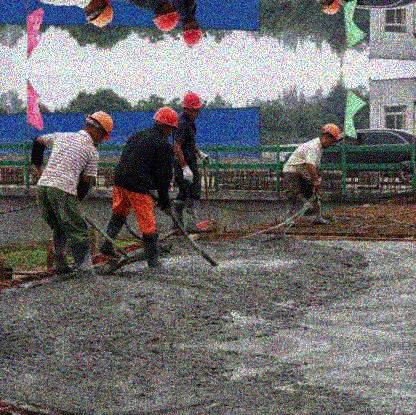helmet: (81, 109, 114, 145), (152, 106, 179, 138), (153, 1, 180, 33), (183, 91, 204, 122), (320, 122, 340, 150), (182, 18, 202, 45)
